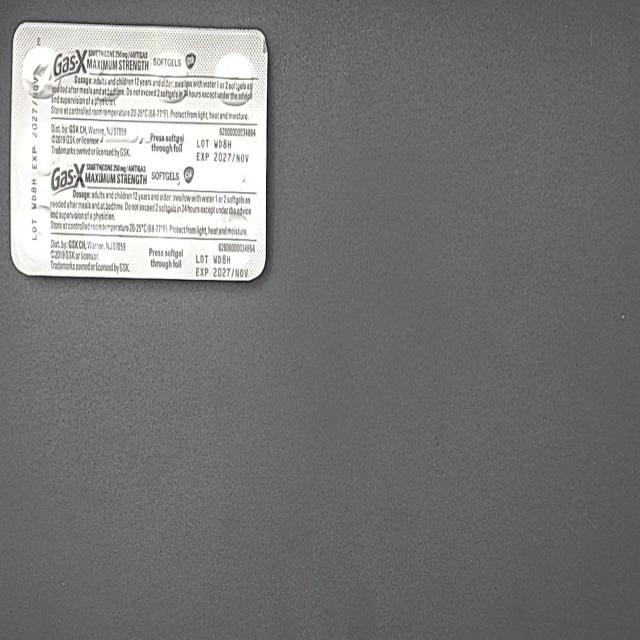no defect: (2, 4, 14, 27)
